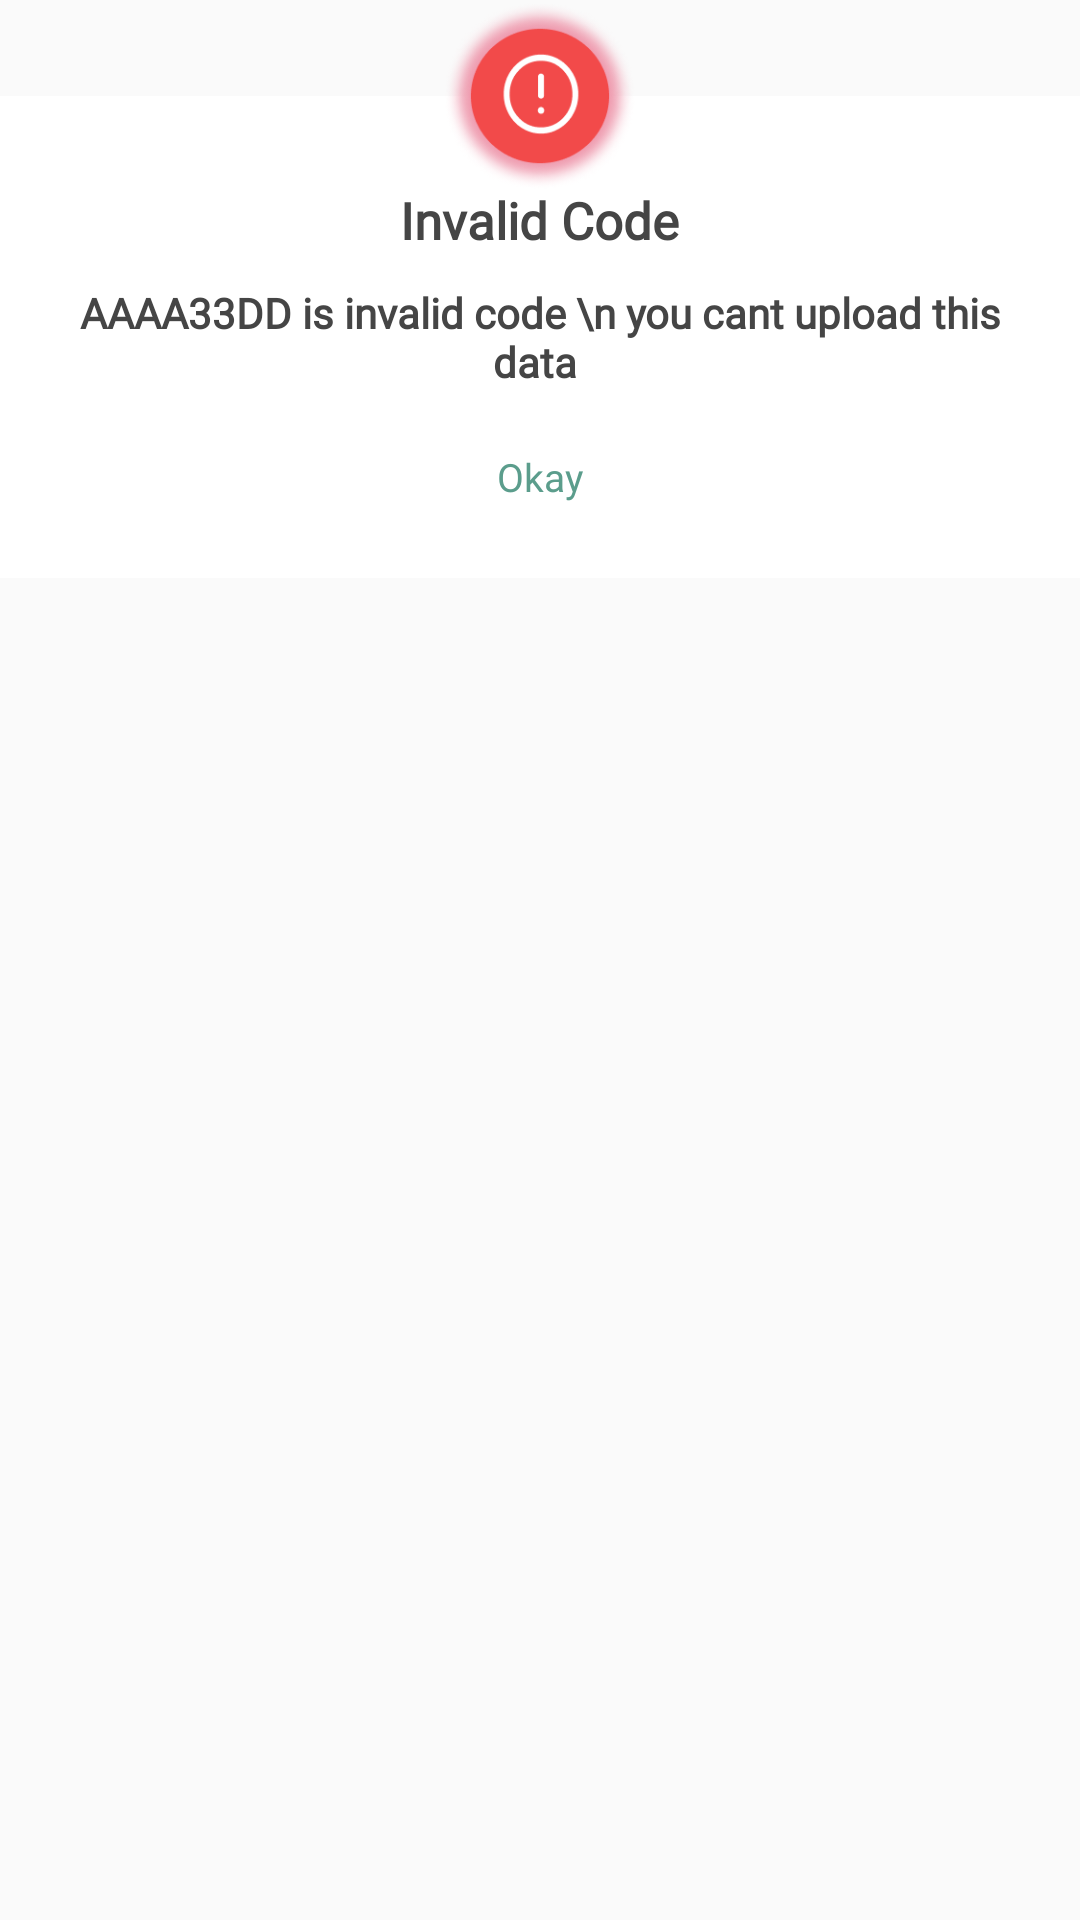

Icons on this 1080 x 1920 Android screen, each with the point to tap as (x,y):
error: (539,95)
